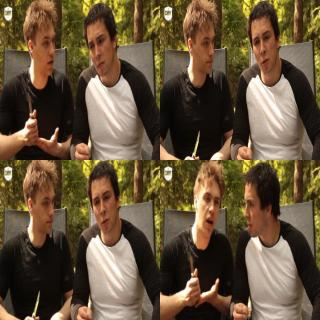knife: (186, 249, 202, 292), (24, 88, 38, 134), (185, 126, 203, 160), (26, 286, 42, 320)
